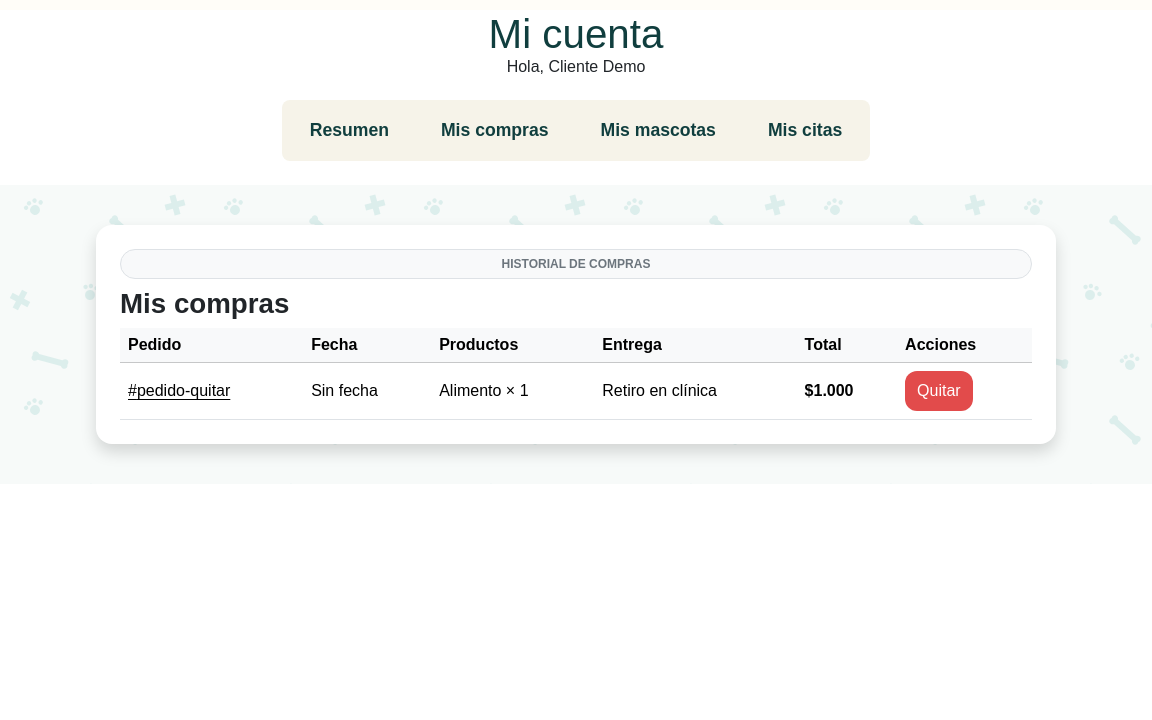
permite quitar una compra del historial después de confirmar
Step 1. Click the button "Quitar" → (939, 391), box [905,371,973,411]
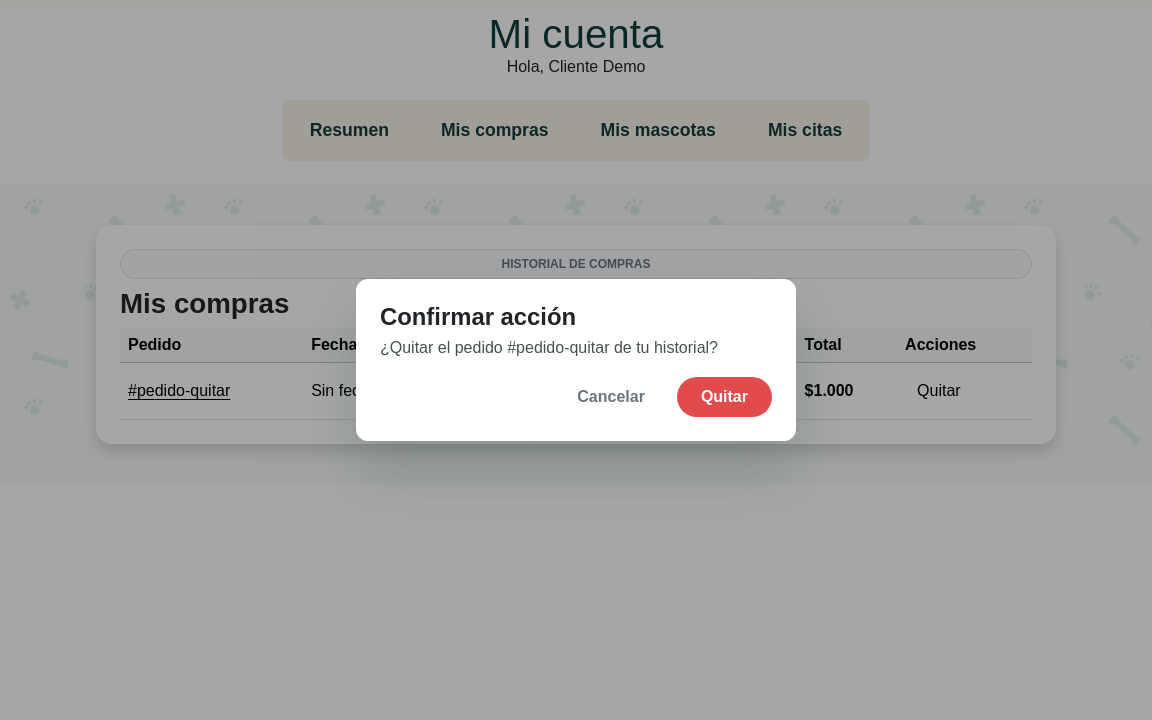
Now the dialog shows "¿Quitar el pedido #pedido-quitar de tu historial?", box [380,339,718,356]
Step 2. Click the button with class "btn-delete" showing "Quitar" → (724, 397), box [677,377,772,417]
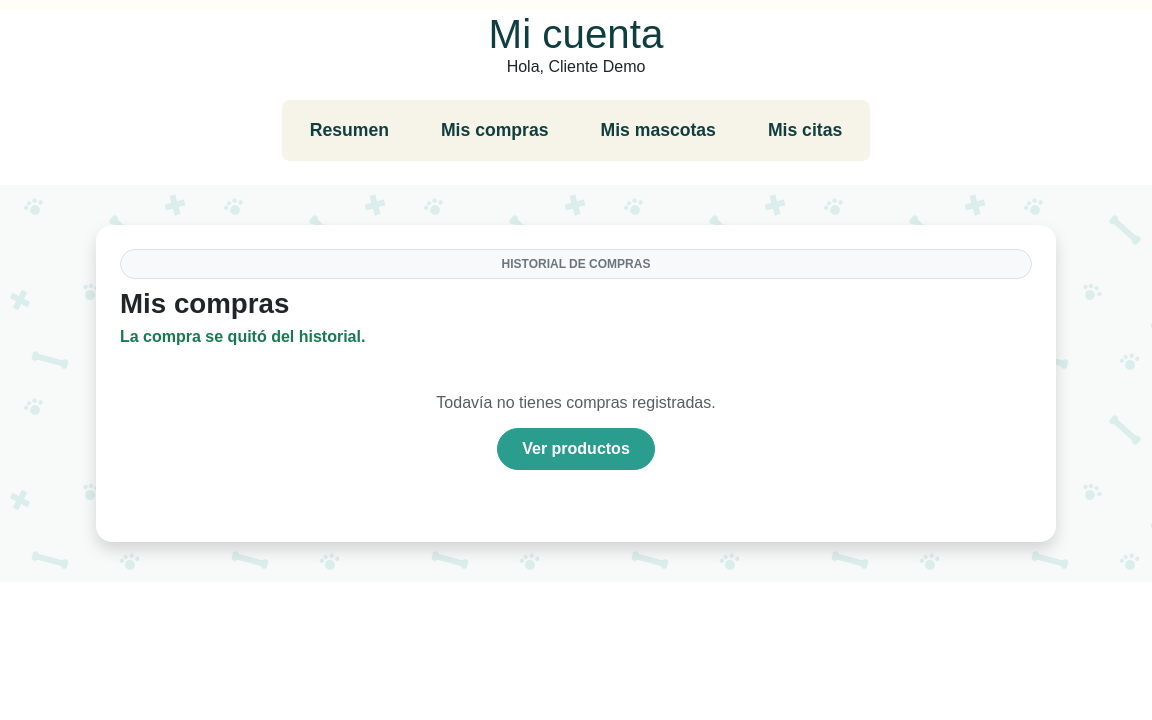
Now the text "Todavía no tienes compras registradas." is shown, box [436,394,716,411]
Now the message reads "La compra se quitó del historial.", box [120,328,365,345]
